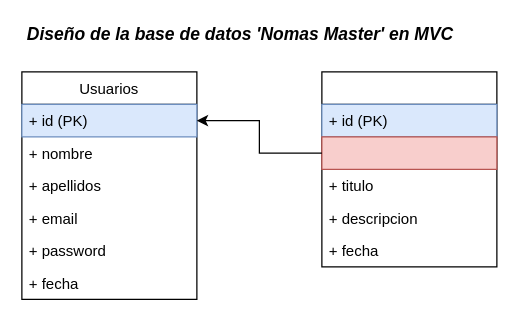
This 519x324 diagram has some shape labels left out. The box of each missing label's shape, as (x1, y1, x2, y2) in pixels:
+ usuario_id (FK): (321, 136, 497, 169)
Notas: (321, 71, 497, 267)
